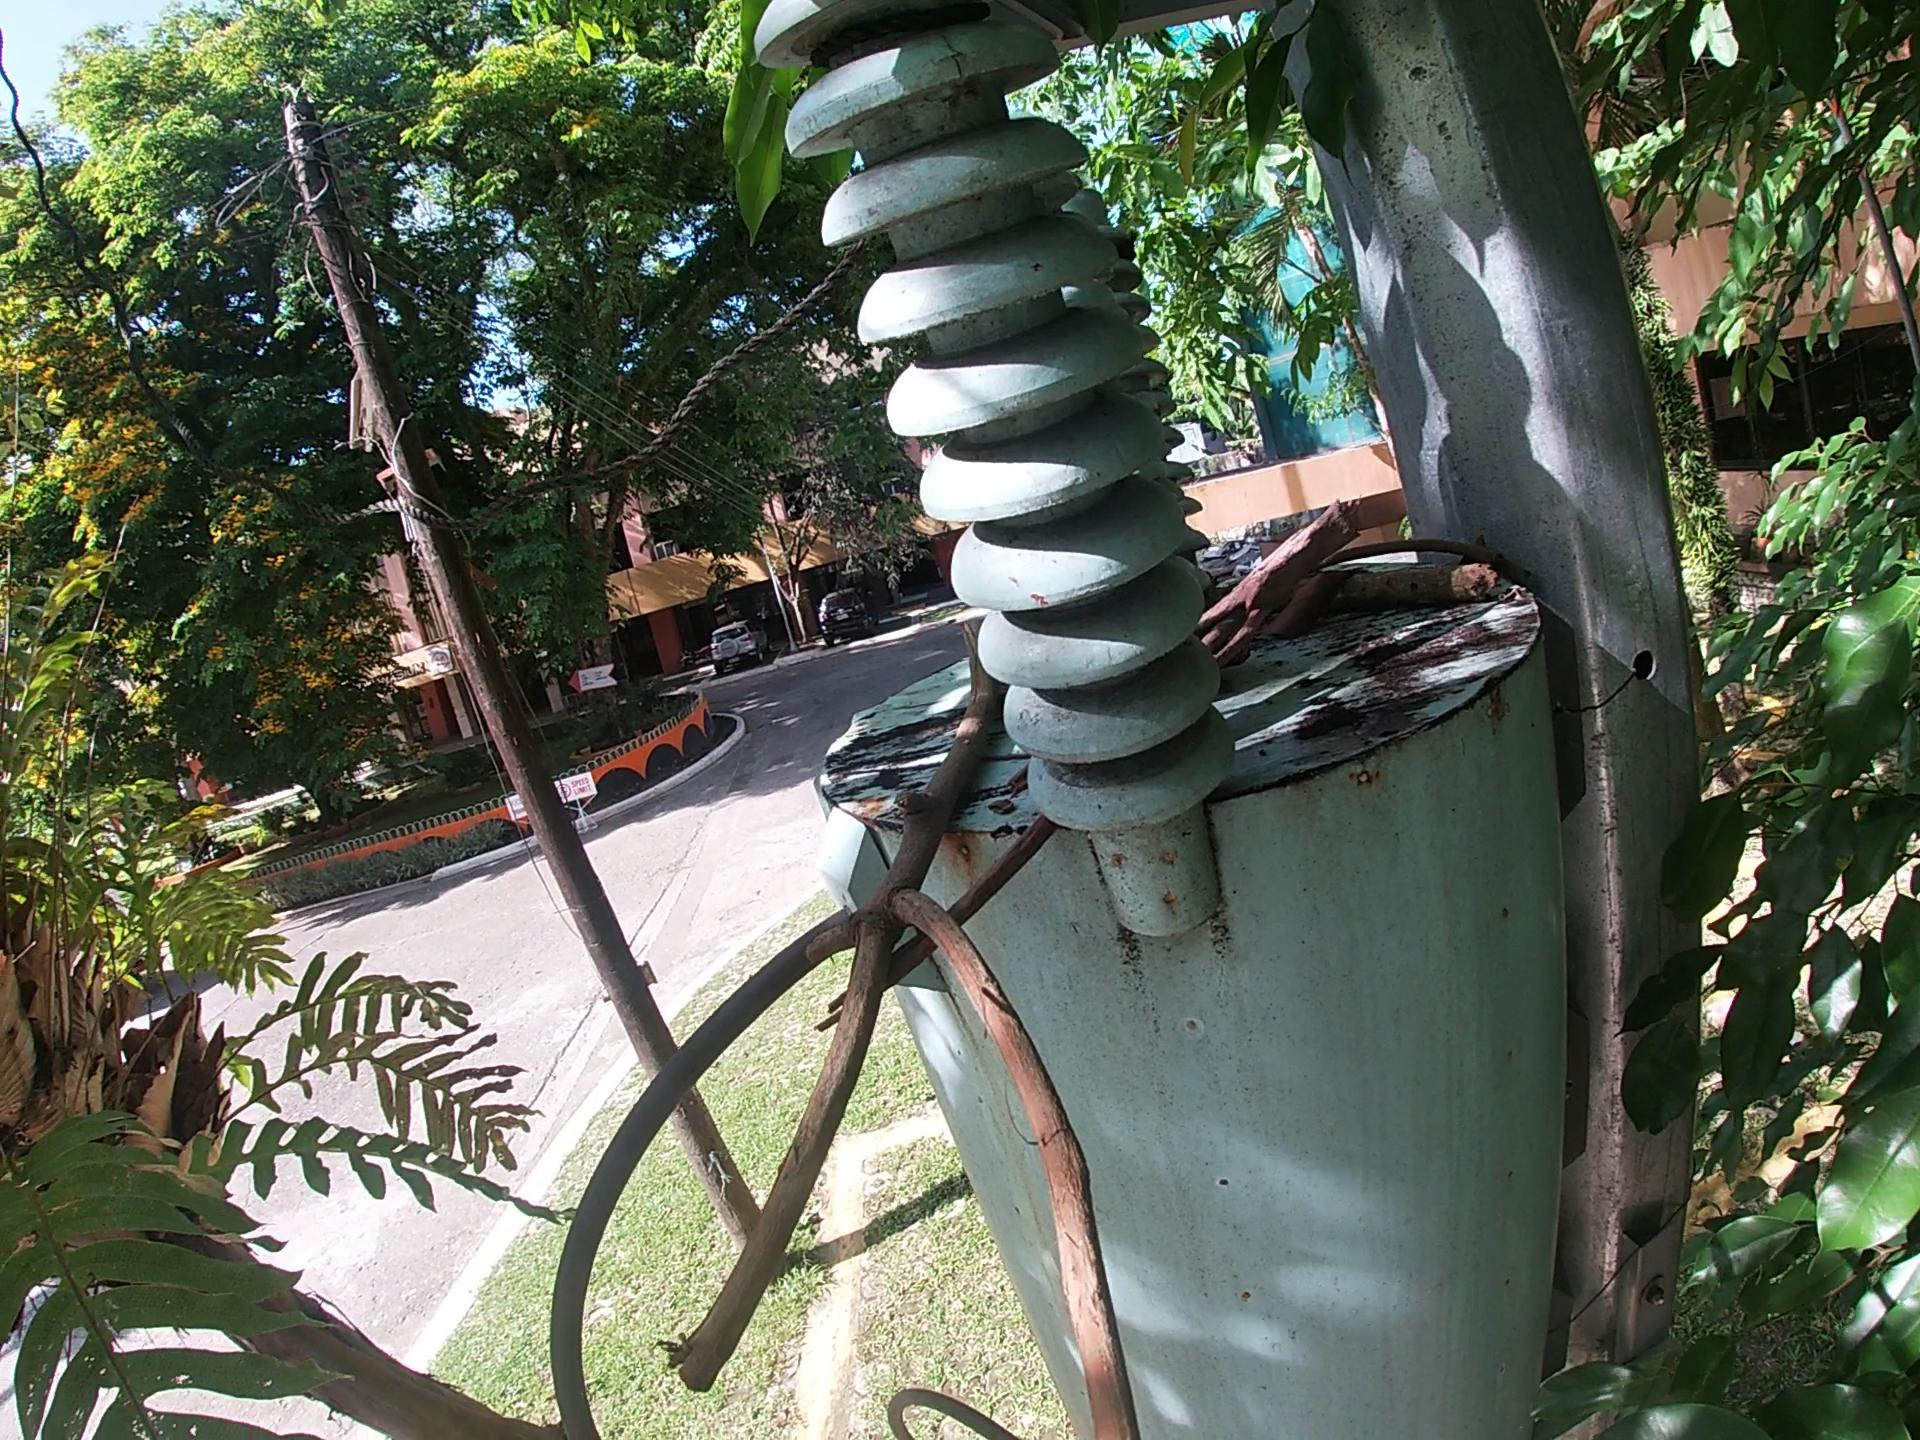leaf: (1265, 558, 1367, 656)
tree branch: (658, 610, 1152, 1440), (822, 802, 1070, 1048), (1191, 486, 1361, 679), (1309, 561, 1509, 619), (1321, 532, 1528, 579)
